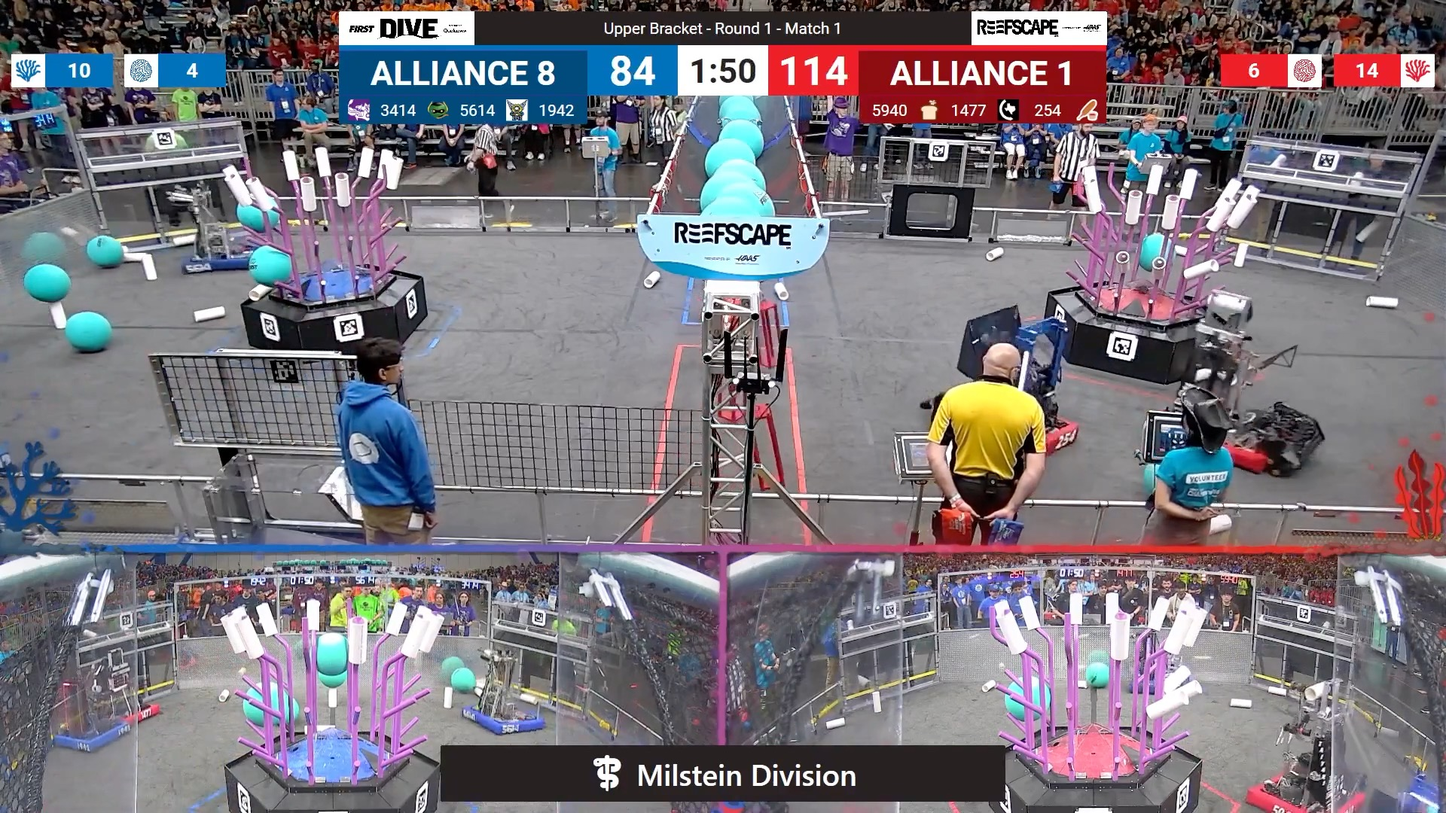bumpers: (1147, 403, 1325, 480), (1238, 770, 1375, 813), (51, 717, 141, 763), (458, 701, 551, 739), (180, 243, 272, 279), (1036, 410, 1084, 458), (107, 698, 168, 729)
